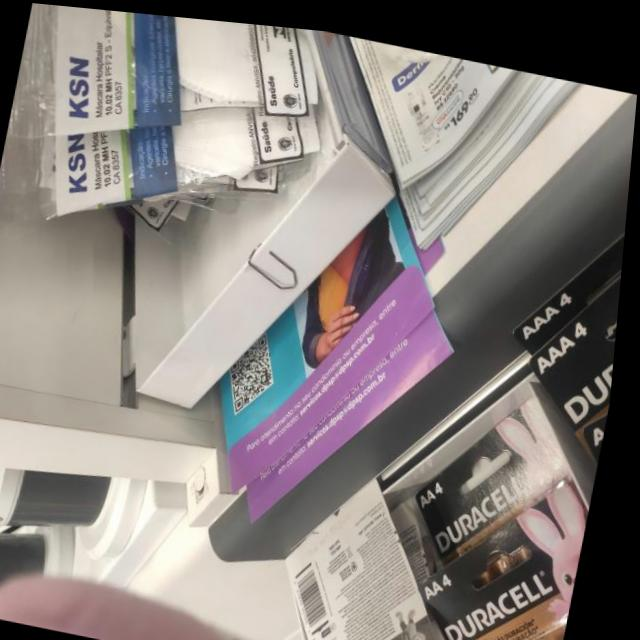qrcode: (230, 322, 287, 412)
